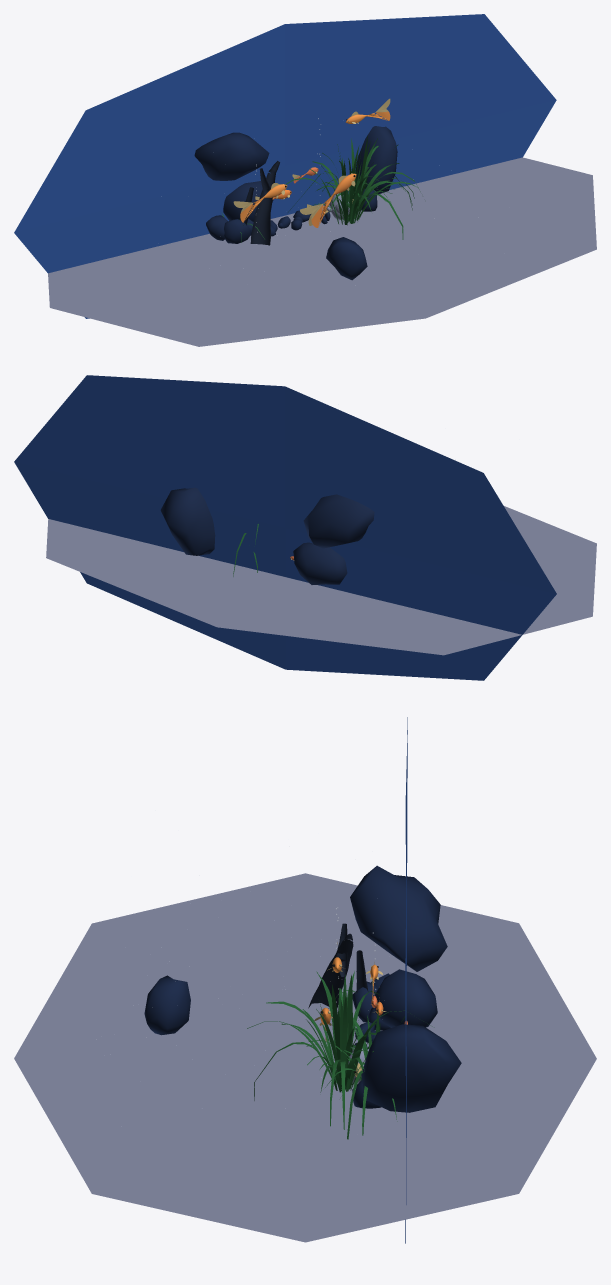
The picture shows the model from 3 angles, top to bottom: view 1: azimuth 30°, elevation 25°; view 2: azimuth 150°, elevation 25°; view 3: azimuth 270°, elevation 25°; orthographic projection. The views are drawn at different scales.
Visible parts, largest first — view 1: backwall.001, sand.001, bgrock_L.001, plant_main.001, bgrock_R.001, driftwood.001, fg_rock.001, bgrock_L2.001, fish_hero_mesh.001, rock_bl1.001, plant_back.002, fish_upleft_mesh.001; view 2: backwall.001, sand.001, bgrock_L.001, bgrock_R.001, bgrock_L2.001; view 3: sand.001, bgrock_R.001, bgrock_L.001, plant_main.001, bgrock_L2.001, fg_rock.001, driftwood.001, plant_back.002, backwall.001.
Boxes of the visible parts, bbox=[...] form: backwall.001: bbox=[14, 14, 556, 318]; sand.001: bbox=[48, 157, 596, 346]; bgrock_L.001: bbox=[194, 132, 269, 180]; plant_main.001: bbox=[285, 138, 418, 239]; bgrock_R.001: bbox=[355, 126, 397, 194]; driftwood.001: bbox=[240, 161, 279, 245]; fg_rock.001: bbox=[326, 237, 367, 280]; bgrock_L2.001: bbox=[223, 181, 273, 221]; fish_hero_mesh.001: bbox=[300, 173, 356, 227]; rock_bl1.001: bbox=[224, 219, 250, 243]; plant_back.002: bbox=[316, 136, 420, 212]; fish_upleft_mesh.001: bbox=[233, 183, 287, 222]; backwall.001: bbox=[14, 375, 556, 680]; sand.001: bbox=[46, 506, 596, 655]; bgrock_L.001: bbox=[303, 494, 374, 548]; bgrock_R.001: bbox=[160, 487, 215, 555]; bgrock_L2.001: bbox=[293, 542, 347, 584]; sand.001: bbox=[14, 873, 596, 1242]; bgrock_R.001: bbox=[361, 1024, 461, 1112]; bgrock_L.001: bbox=[350, 865, 447, 971]; plant_main.001: bbox=[247, 971, 434, 1129]; bgrock_L2.001: bbox=[373, 969, 437, 1027]; fg_rock.001: bbox=[144, 975, 190, 1035]; driftwood.001: bbox=[308, 923, 368, 1008]; plant_back.002: bbox=[308, 1009, 405, 1139]; backwall.001: bbox=[405, 717, 407, 1243].
Bounding box in the file's own units: 8.25 × 4.13 × 5.5.
